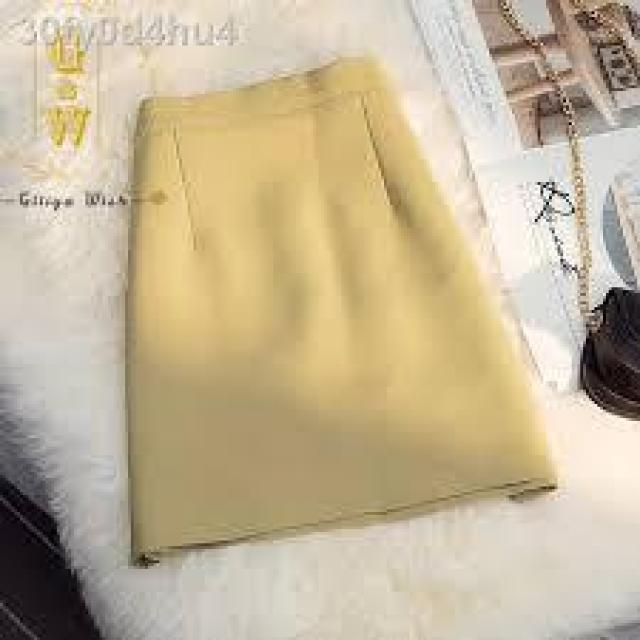skirt: (70, 31, 604, 578)
